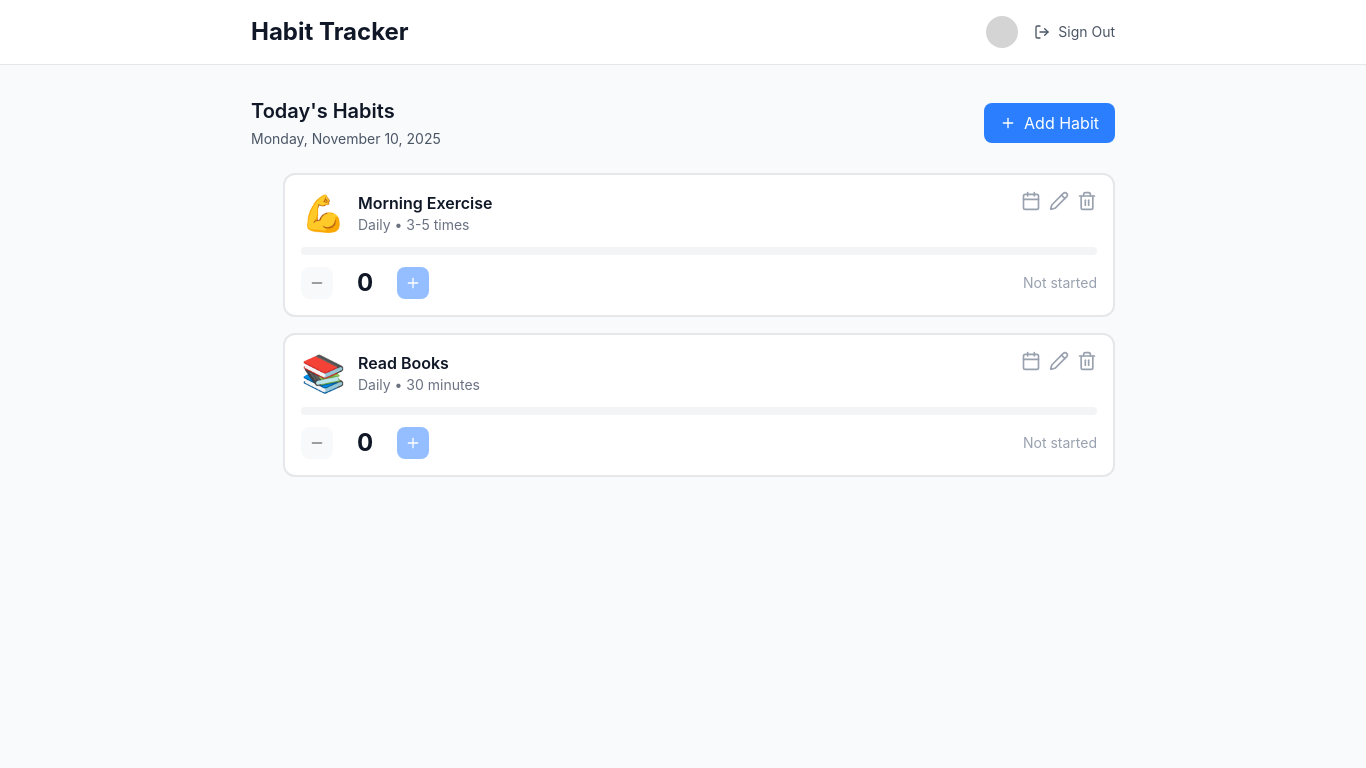
Dashboard › Edit Functionality › closes edit form after successful save
Click the button titled "Edit habit" in the row of "Morning Exercise": x=1059, y=201 [1049,191,1069,211]
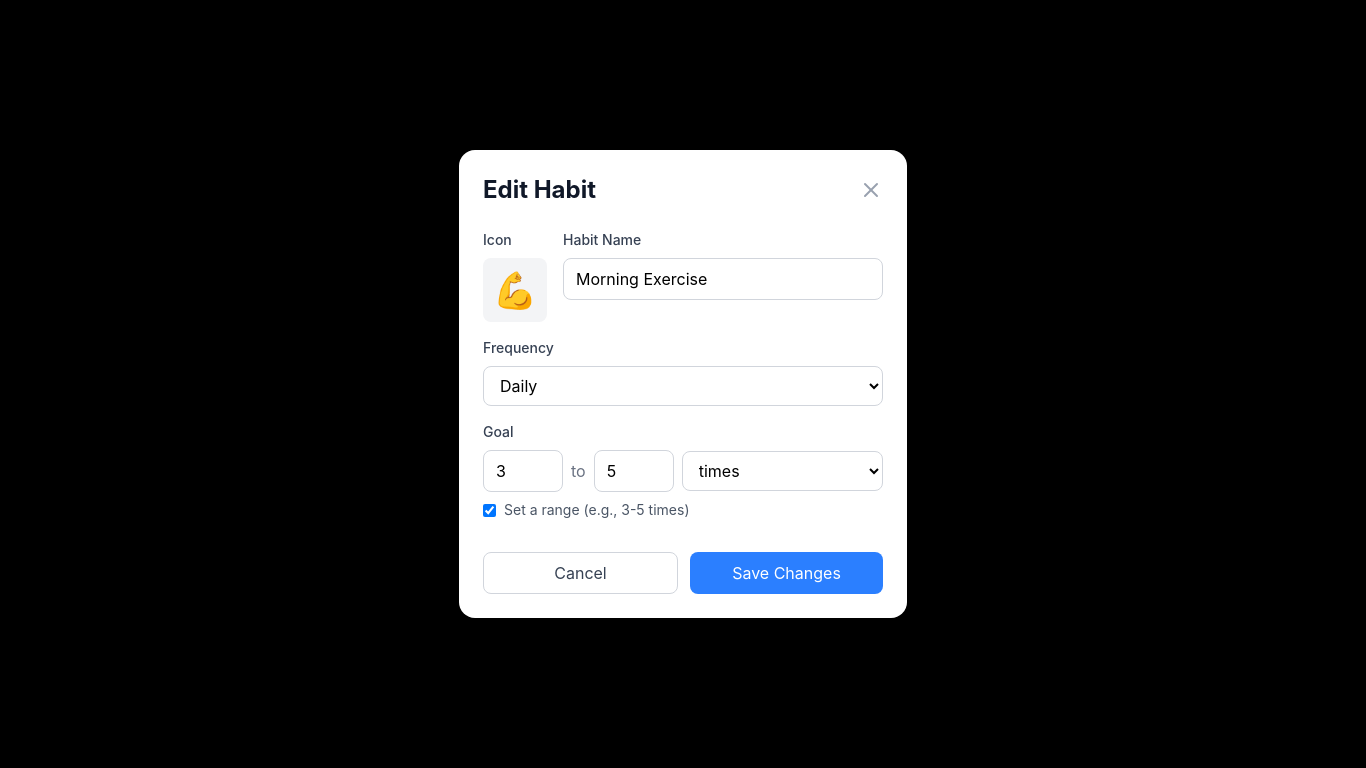
Expected: the heading "Edit Habit" is shown, [483,174,596,206]
Click the button "Save Changes": x=786, y=573 [690,552,883,594]
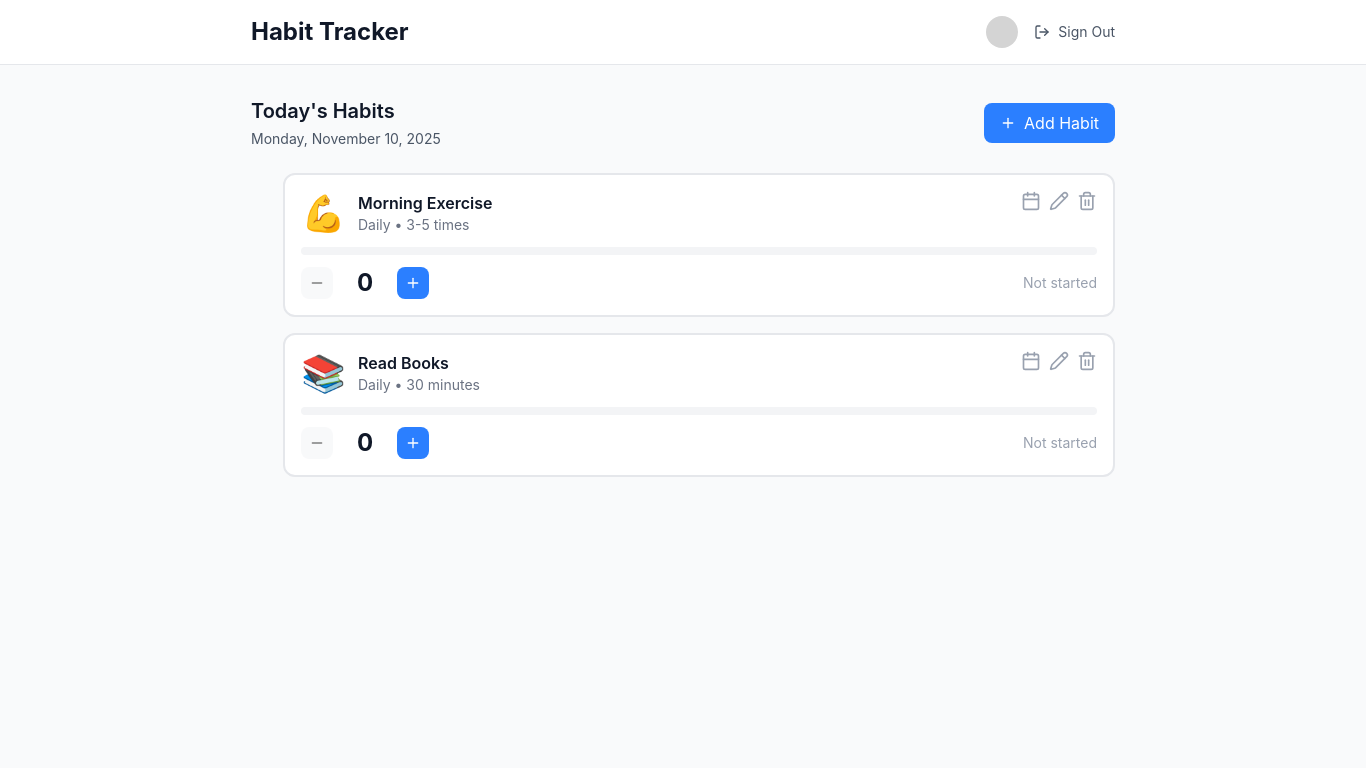
Expected: the heading "Edit Habit" is gone
